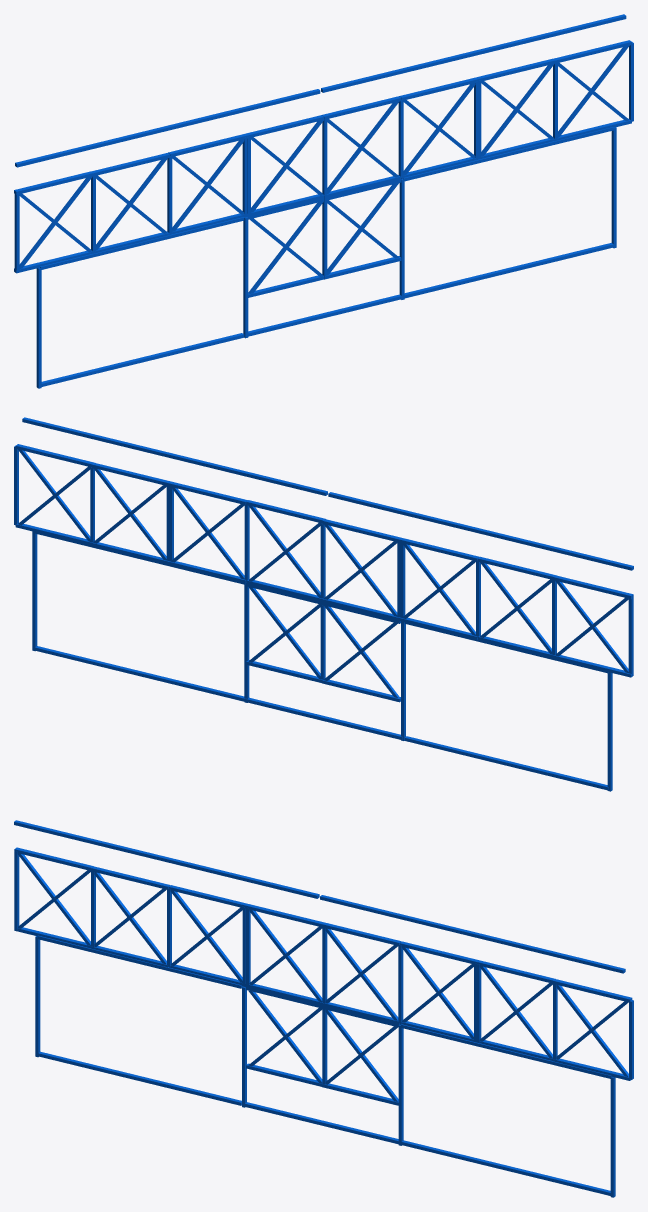
The model's file is W04_Wall_01_Break_C.fbx.
The picture shows the model from 3 angles, top to bottom: view 1: azimuth 30°, elevation 25°; view 2: azimuth 150°, elevation 25°; view 3: azimuth 330°, elevation 25°; orthographic projection.
Visible parts, largest first — view 1: W04_Wall_01_Break_C; view 2: W04_Wall_01_Break_C; view 3: W04_Wall_01_Break_C.
Part boxes in pixels (bbox=[...]): W04_Wall_01_Break_C: bbox=[14, 14, 633, 388]; W04_Wall_01_Break_C: bbox=[14, 417, 633, 791]; W04_Wall_01_Break_C: bbox=[14, 820, 633, 1197].
Size of the model in its own units: 2371 by 842 by 20.79.
